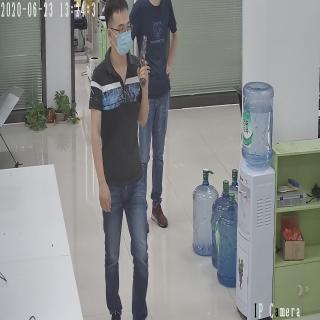gun: (137, 33, 149, 89)
